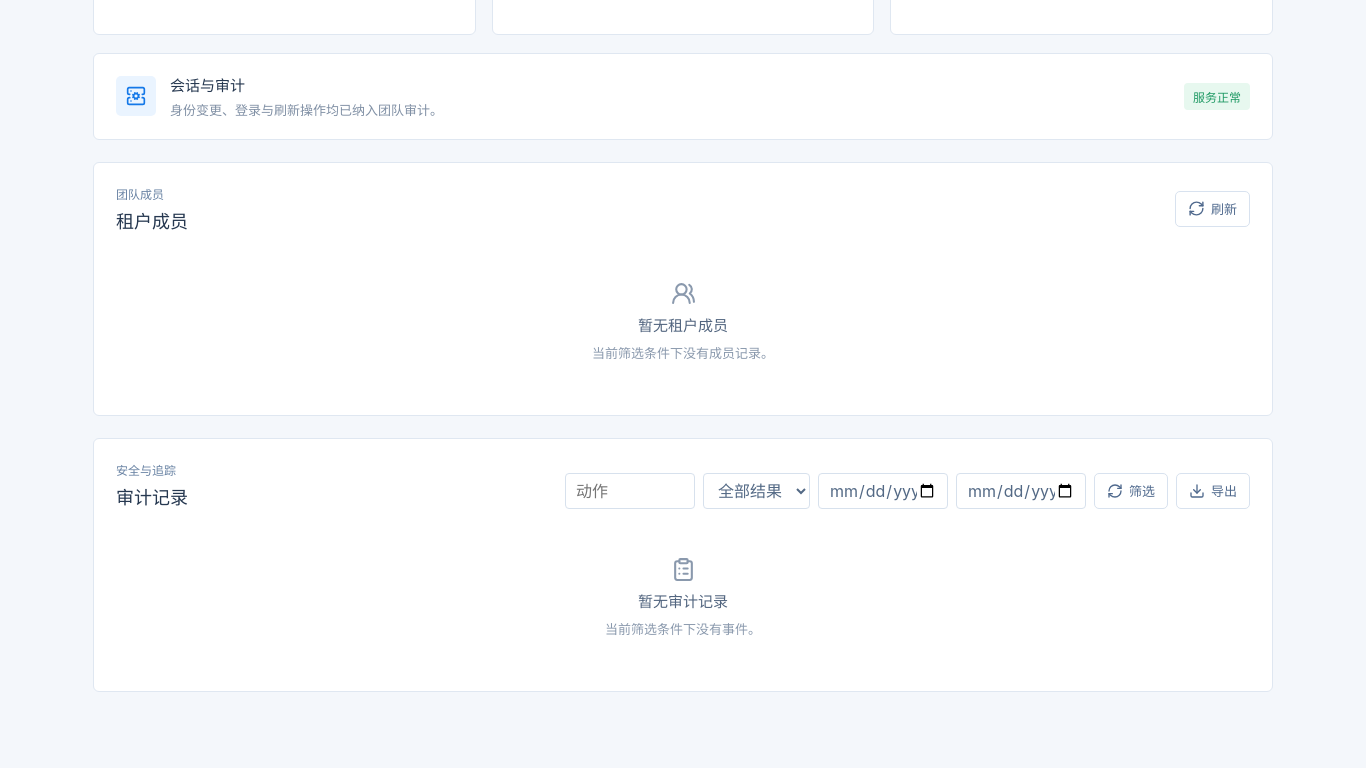
Scenario: AdminShell › shows an inline error when audit export fails
(page scrolled)
expect the text "暂无审计记录" is shown: met, box [638,590,728,611]
Click the button with aria-label "导出审计记录".
click(1213, 491)  # box [1176,473,1250,509]
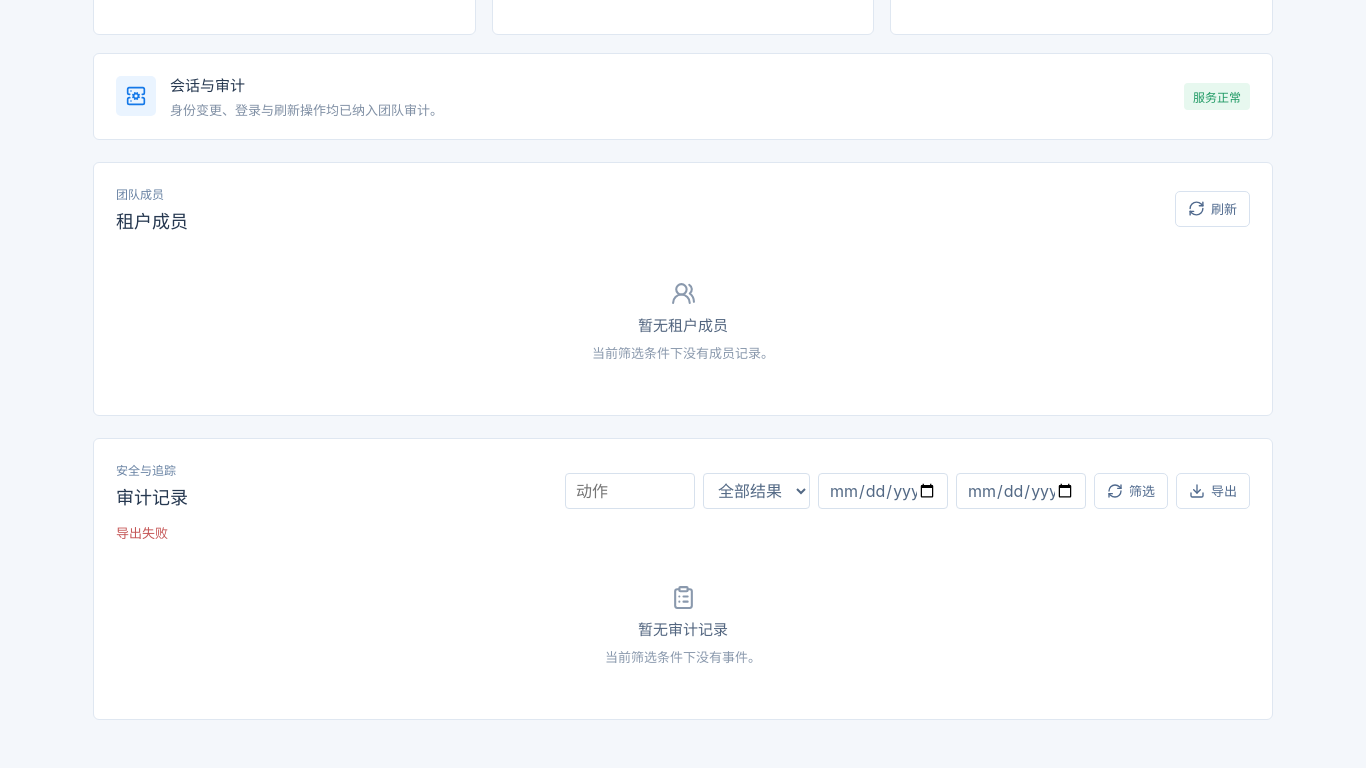
expect the message reads "导出失败": met, box [116,525,168,541]
